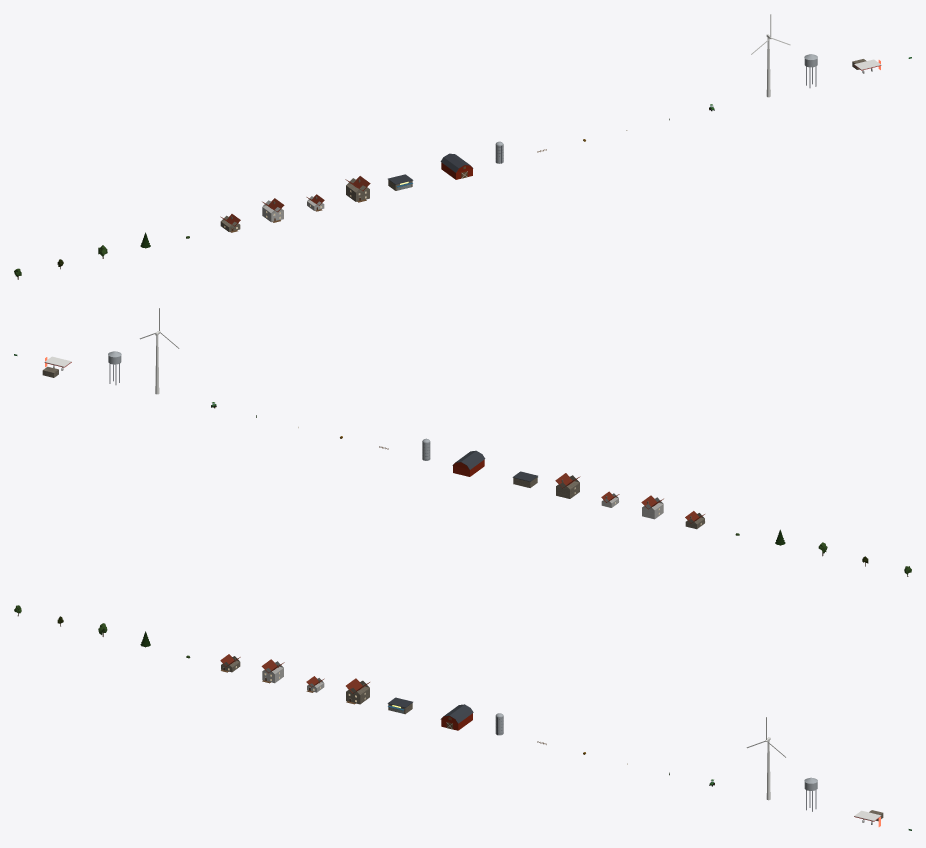
Rendered from rural.glb.
The picture shows the model from 3 angles, top to bottom: view 1: azimuth 30°, elevation 25°; view 2: azimuth 150°, elevation 25°; view 3: azimuth 330°, elevation 25°; orthographic projection.
Parts seen in each view (by area): view 1: RU_barn_mesh; view 2: RU_barn_mesh; view 3: RU_barn_mesh, RU_farmhouse_mesh.
Boxes of the visible parts, left/top/right/bottom form: RU_barn_mesh: left=440, top=153, right=473, bottom=179; RU_barn_mesh: left=452, top=450, right=485, bottom=476; RU_barn_mesh: left=440, top=704, right=473, bottom=730; RU_farmhouse_mesh: left=346, top=678, right=369, bottom=704.
Size of the model in its own units: 633 by 57 by 21.4.
29 materials, 12 textured.
